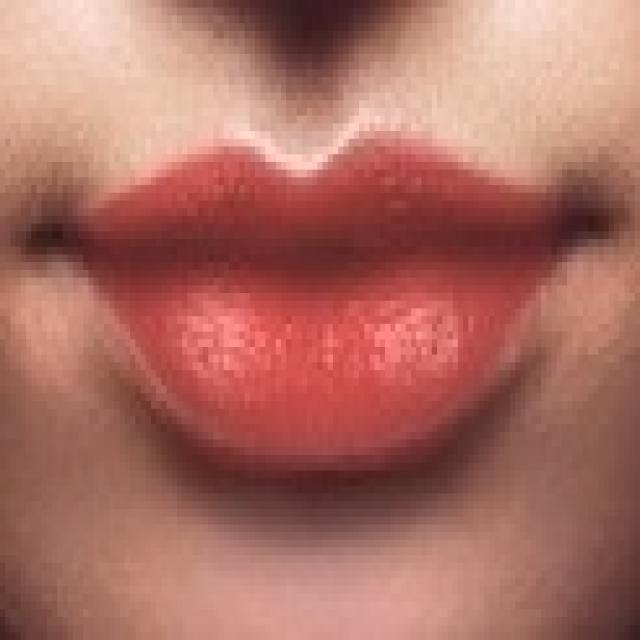closed-mouth: (57, 108, 614, 486)
